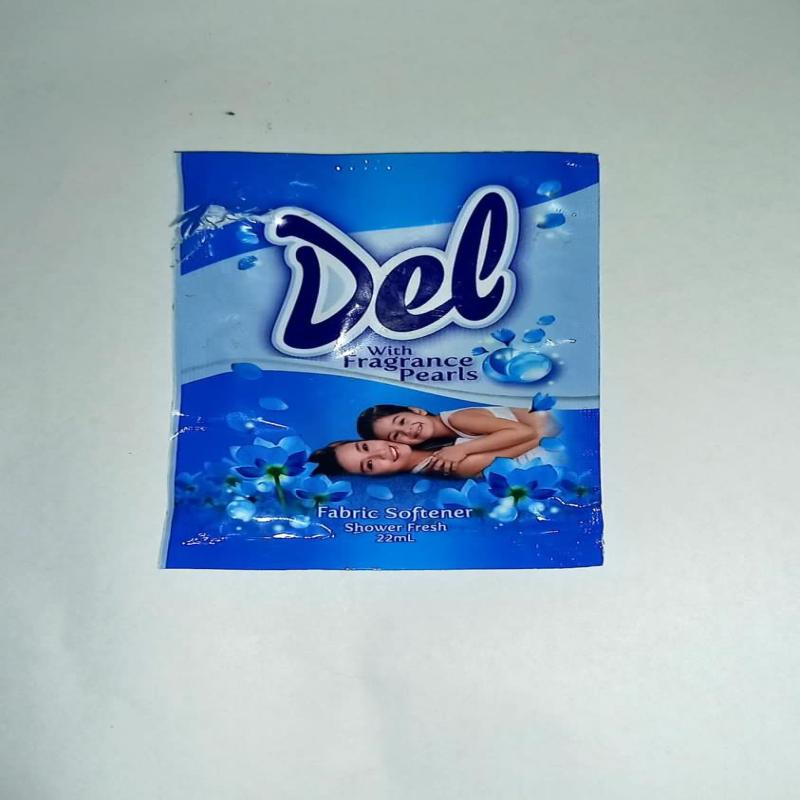plastic sachet: (159, 151, 606, 575)
